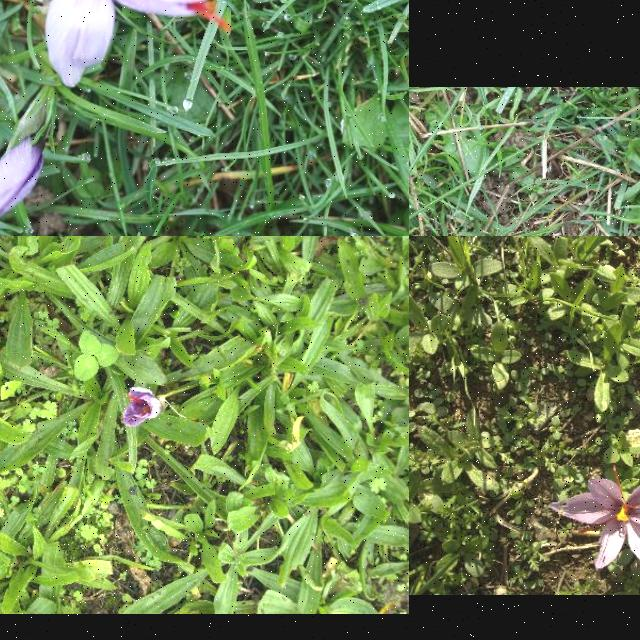flower: (44, 0, 231, 86), (548, 465, 640, 583), (0, 134, 45, 234), (123, 387, 161, 429)
